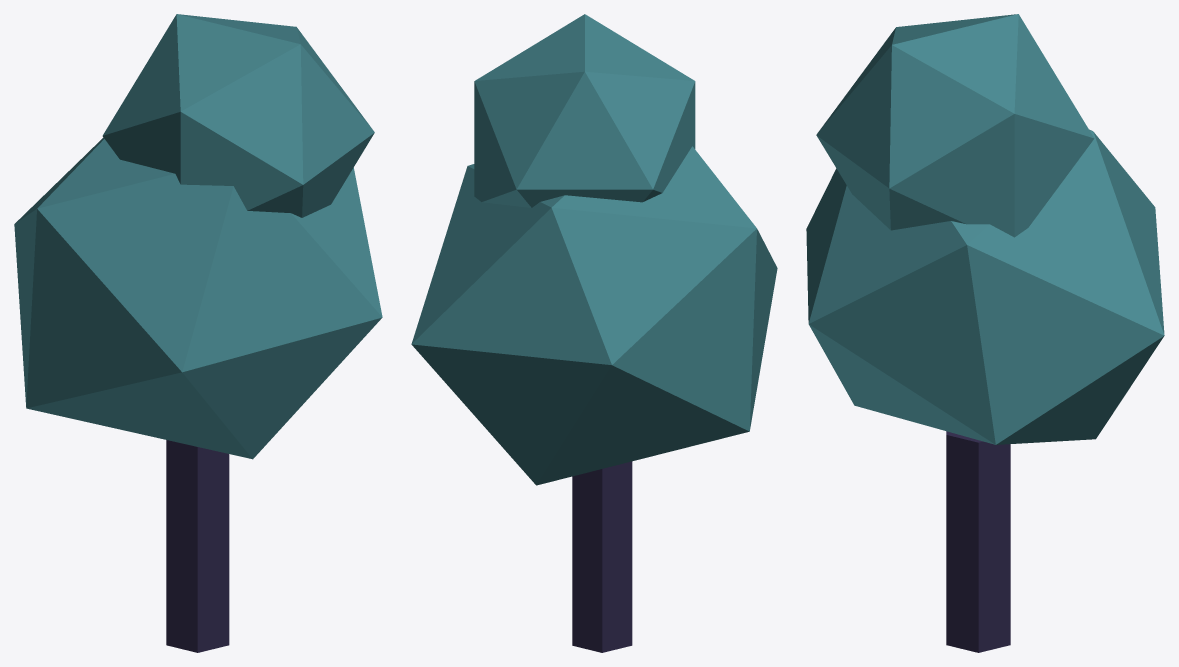
The model's file is tree.glb.
The picture shows the model from 3 angles, left to right: view 1: azimuth 30°, elevation 25°; view 2: azimuth 150°, elevation 25°; view 3: azimuth 270°, elevation 25°; orthographic projection. The views are drawn at different scales.
Parts seen in each view (by area): view 1: Crown, Top, Trunk; view 2: Crown, Top, Trunk; view 3: Crown, Top, Trunk.
Part boxes in pixels (x1,y1,x2,y2): Crown: (14,137,382,459); Top: (102,14,374,217); Trunk: (166,440,229,652); Crown: (411,146,777,485); Top: (474,14,695,207); Trunk: (572,461,632,652); Crown: (806,129,1164,444); Top: (816,14,1094,237); Trunk: (946,431,1010,652).
Size of the model in its own units: 1.67 by 2.96 by 1.54.
